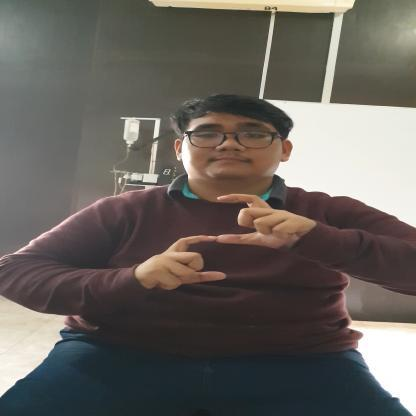S: (146, 194, 298, 291)
